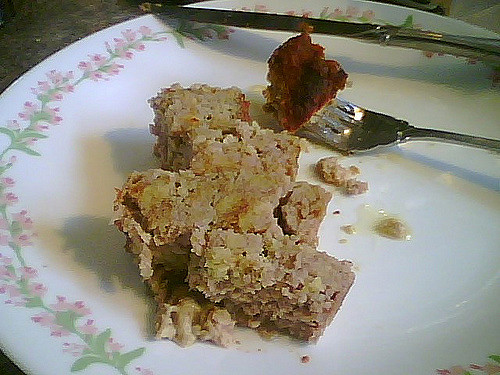slice of bread: (122, 183, 276, 234)
